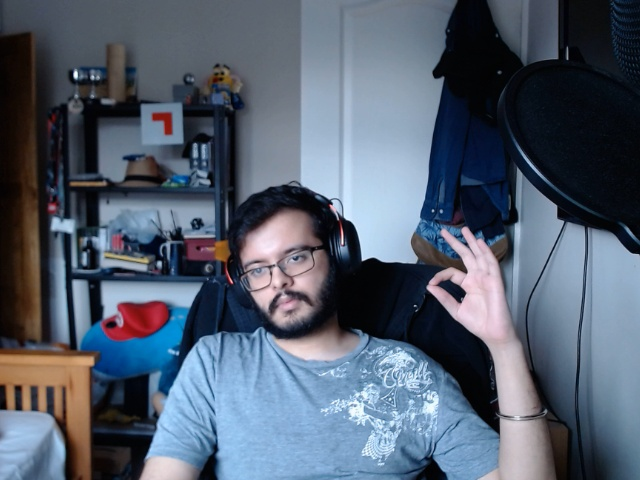Okay: (421, 224, 521, 342)
